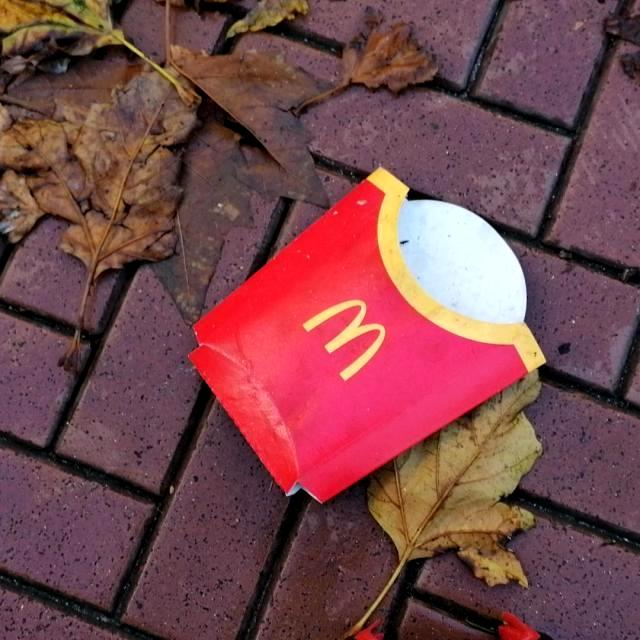Paper: (184, 162, 550, 508)
